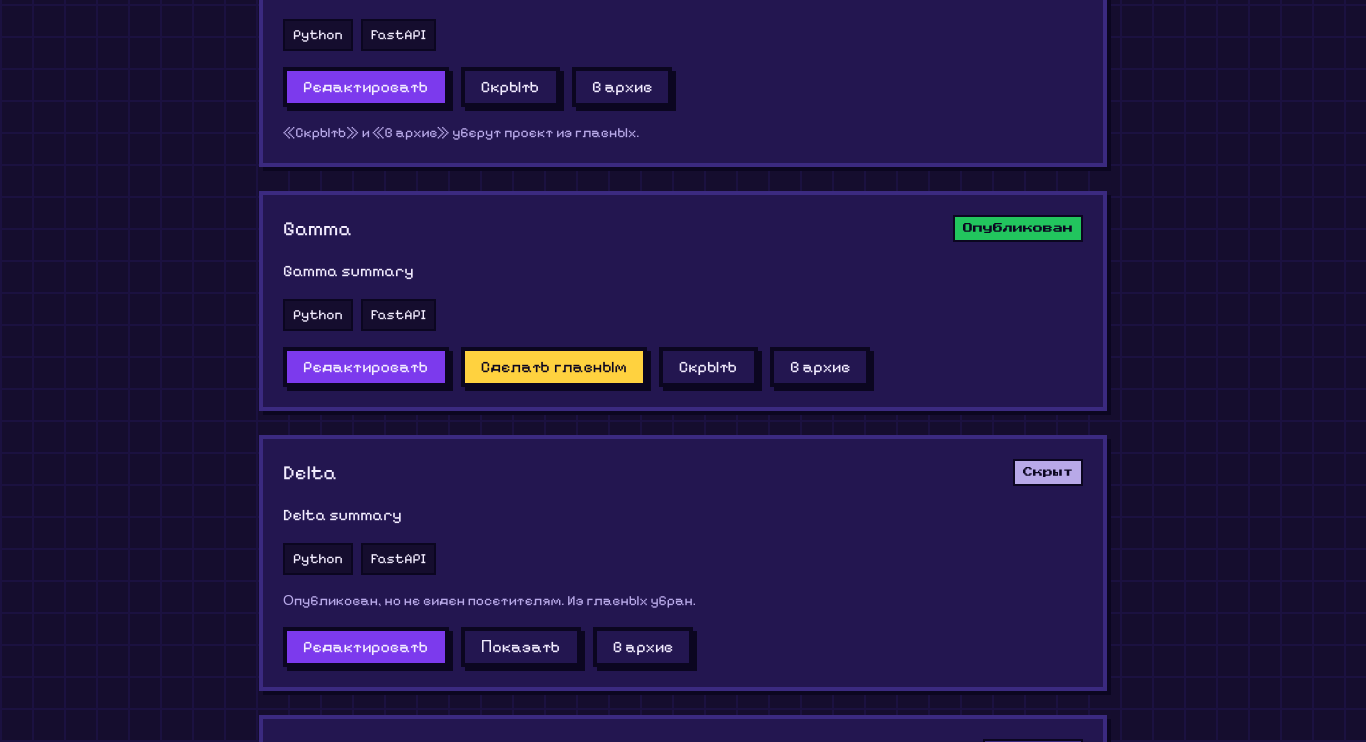
featured order › FEATURED_LIMIT_REACHED shows its text and reloads
(page scrolled)
Click the button "Сделать главным". click: (554, 367)
box: [461, 347, 647, 387]
(page scrolled)
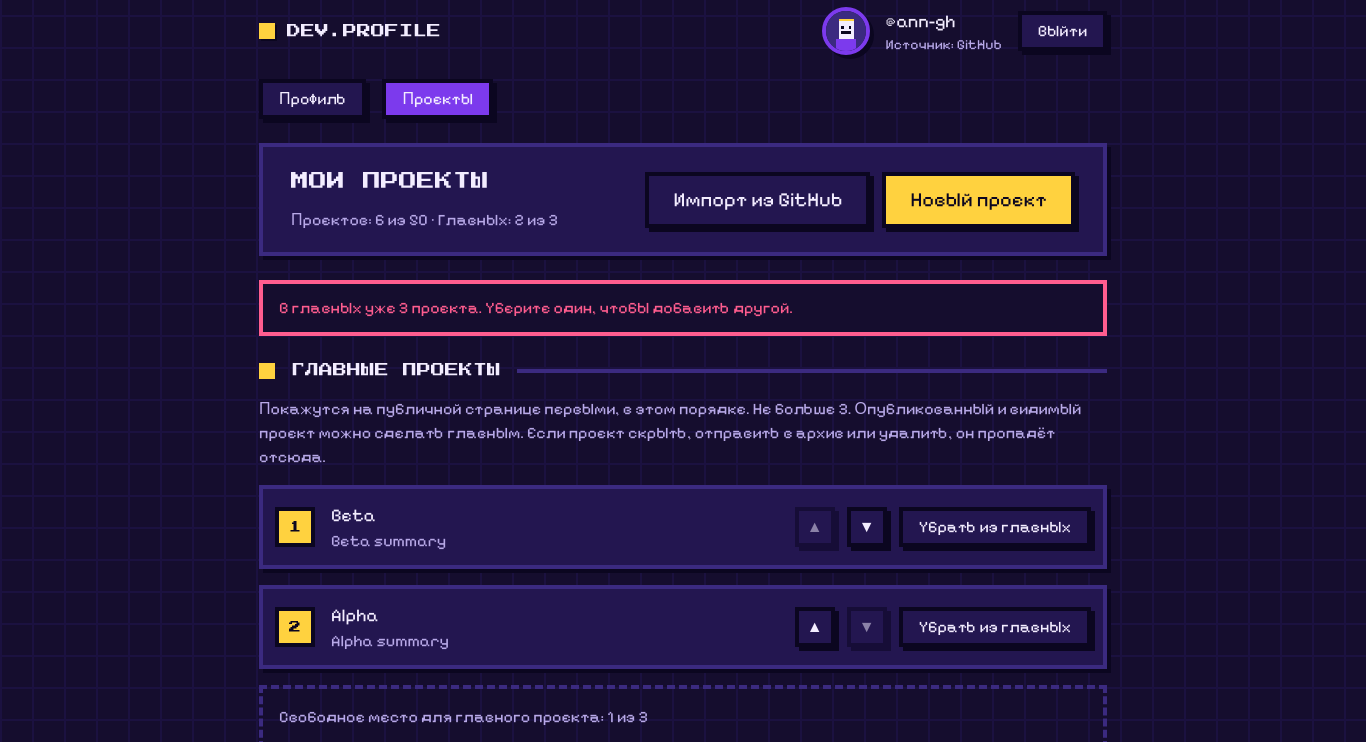
Now the message reads "В главных уже 3 проекта. Уберите один, чтобы добавить другой.", box [279, 298, 793, 317]
